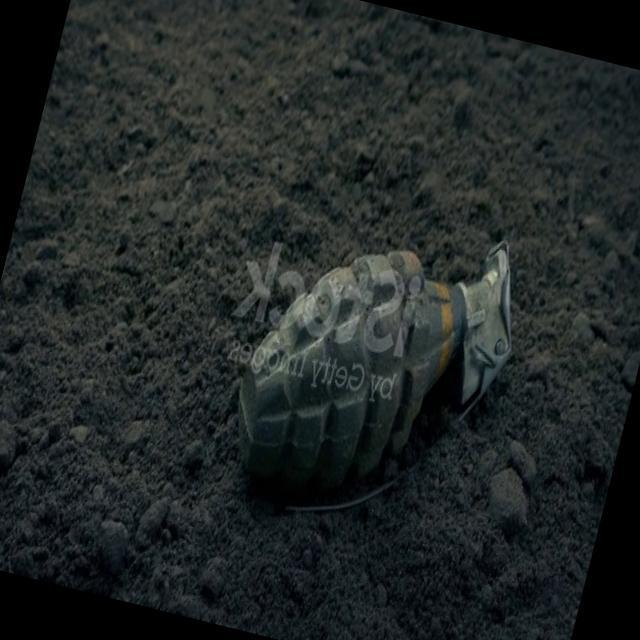grenade: (222, 192, 534, 534)
